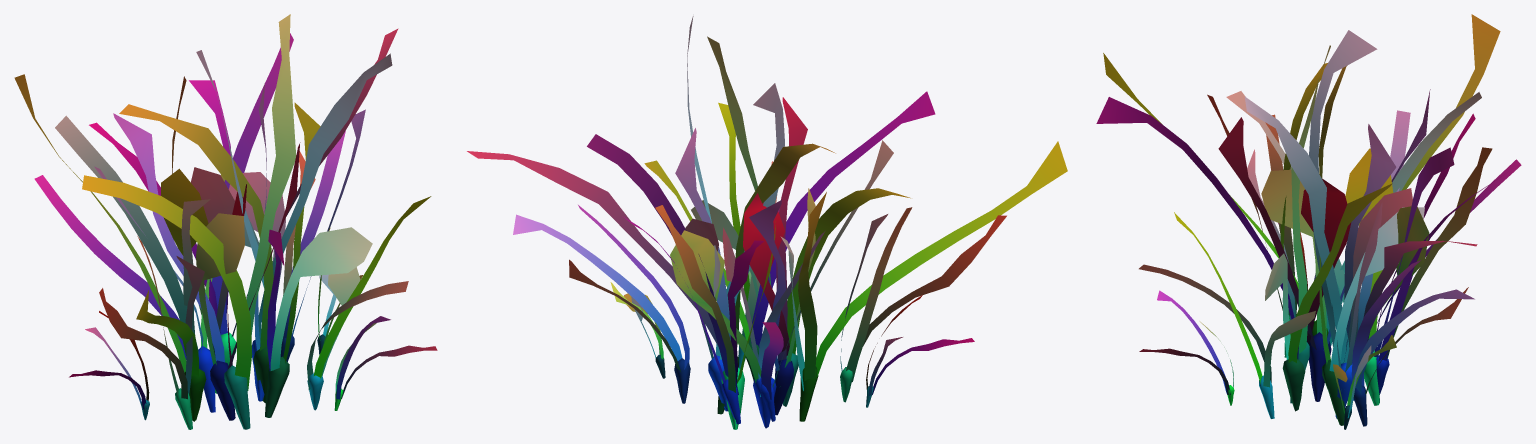
The model's file is Ribbon_Grass_tbdpec3r_Low_tbdpec3r_VarE_LOD0.fbx.
3 views of the same model, side by side, from view 1: azimuth 30°, elevation 25°; view 2: azimuth 150°, elevation 25°; view 3: azimuth 270°, elevation 25° (orthographic). The views are drawn at different scales.
Visible parts, largest first — view 1: _3809_VarE_LOD1; view 2: _3809_VarE_LOD1; view 3: _3809_VarE_LOD1.
Boxes of the visible parts, <box> form: _3809_VarE_LOD1: <box>14,14,437,429</box>; _3809_VarE_LOD1: <box>467,16,1067,429</box>; _3809_VarE_LOD1: <box>1096,14,1521,429</box>.
Bounding box in the file's own units: 35.09 × 29.07 × 28.79.
